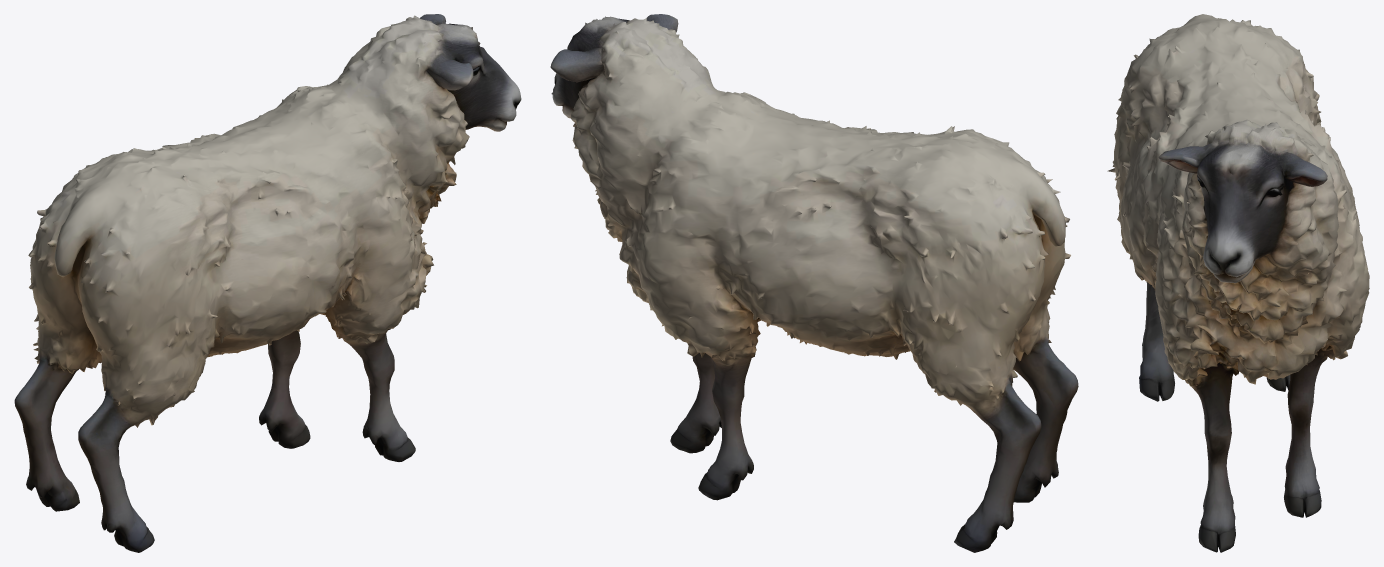
Rendered from sheep-standing.glb.
The picture shows the model from 3 angles, left to right: view 1: azimuth 30°, elevation 25°; view 2: azimuth 150°, elevation 25°; view 3: azimuth 270°, elevation 25°; orthographic projection. The views are drawn at different scales.
Parts seen in each view (by area): view 1: tripo_node_7b8f3830-3b08-4e14-b85e-77ed4cfe33ba; view 2: tripo_node_7b8f3830-3b08-4e14-b85e-77ed4cfe33ba; view 3: tripo_node_7b8f3830-3b08-4e14-b85e-77ed4cfe33ba.
Part boxes in pixels (x1,y1,x2,y2): tripo_node_7b8f3830-3b08-4e14-b85e-77ed4cfe33ba: (14, 14, 521, 552); tripo_node_7b8f3830-3b08-4e14-b85e-77ed4cfe33ba: (550, 14, 1078, 552); tripo_node_7b8f3830-3b08-4e14-b85e-77ed4cfe33ba: (1107, 14, 1369, 552).
Size of the model in its own units: 1.49 by 1.2 by 0.6477.
Materials: 1 (1 with a texture image).
